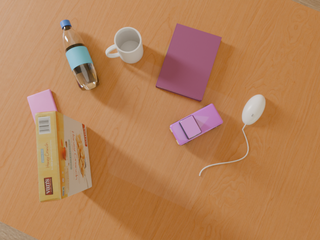book: (156, 23, 222, 102)
bottle: (60, 20, 100, 90)
box: (35, 110, 92, 202)
cup: (106, 27, 143, 63)
mouse: (242, 95, 265, 125)
phone: (27, 89, 57, 121)
toy_car: (170, 104, 223, 145)
